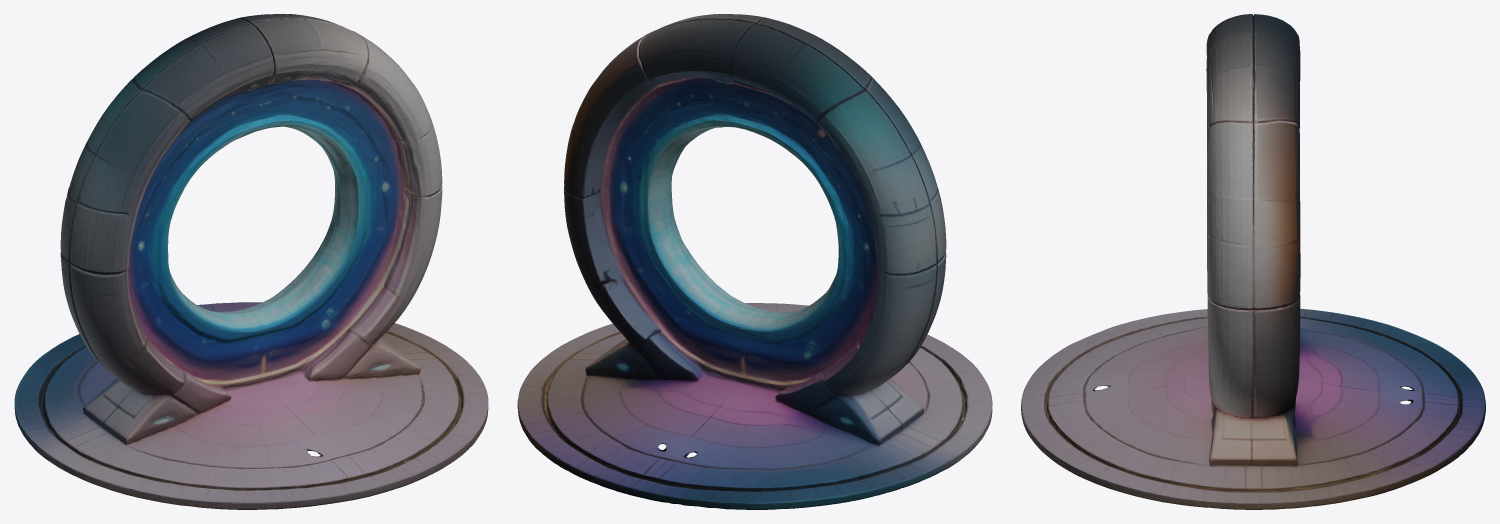
Rendered from teleport.glb.
3 views of the same model, side by side, from view 1: azimuth 30°, elevation 25°; view 2: azimuth 150°, elevation 25°; view 3: azimuth 270°, elevation 25° (orthographic). The views are drawn at different scales.
Parts seen in each view (by area): view 1: world; view 2: world; view 3: world.
Boxes of the visible parts, bbox=[...] form: world: bbox=[14, 14, 488, 509]; world: bbox=[517, 14, 992, 509]; world: bbox=[1021, 14, 1485, 509].
Bounding box in the file's own units: 1 × 0.9024 × 1.
Materials: 1 (1 with a texture image).
